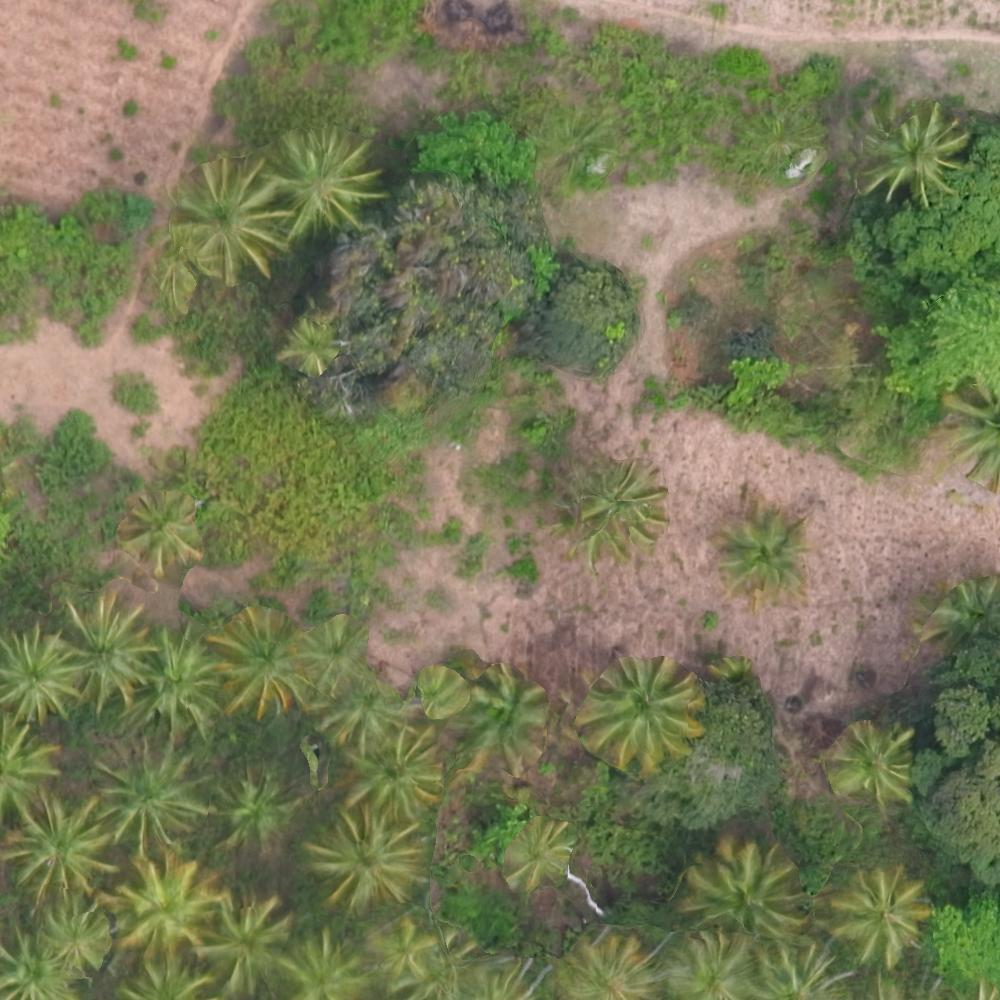Palm: (94, 741, 214, 846), (580, 660, 701, 762), (312, 808, 425, 912), (690, 830, 801, 935), (177, 167, 282, 277), (264, 133, 376, 236), (7, 795, 113, 898), (115, 857, 218, 961), (828, 866, 932, 969), (57, 599, 154, 705), (200, 897, 295, 997), (211, 608, 304, 709), (342, 723, 437, 816), (133, 630, 221, 729), (870, 107, 963, 198), (579, 469, 674, 558), (721, 515, 814, 601), (1, 627, 80, 722), (117, 489, 202, 576), (827, 724, 915, 807), (216, 770, 299, 845), (362, 914, 445, 985), (35, 894, 116, 966), (500, 824, 576, 893), (277, 319, 335, 375)
